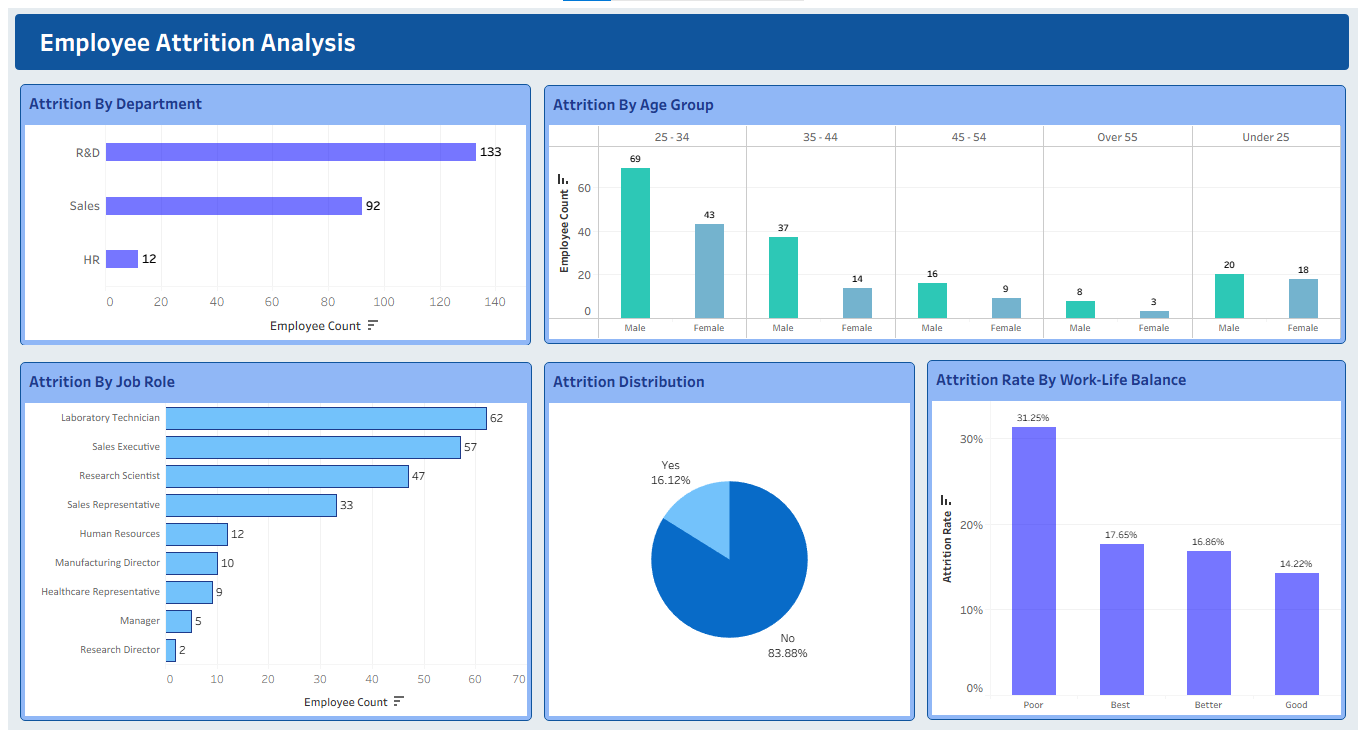

The dashboard page shown, as its layout file describes it:
{"tool":"tableau","page":{"name":"Employee Attrition Analysis","canvas":[1000,1000],"units":"permille","ordinal":0},"visuals":[{"type":"blank","box":[11.3,18.6,976.6,76]},{"type":"text","box":[26.8,28.7,342.9,54.1]},{"type":"worksheet","title":"Attrition By Department","mark":"Automatic","rows":["Department"],"cols":["Employee Count"],"box":[15.6,114.9,372.3,351.4]},{"type":"worksheet","title":"Attrition By Age Group","mark":"Automatic","rows":["Employee Count"],"cols":["CF_age band","Gender"],"box":[399.1,116.5,585.3,348]},{"type":"worksheet","title":"Attrition Rate By Work-Life Balance","mark":"Automatic","rows":["Calculation_0070150597394432"],"cols":["Calculation_0070150615400451"],"box":[679.7,489.9,304.8,484.8]},{"type":"worksheet","title":"Attrition By Job Role","mark":"Automatic","rows":["Job Role"],"cols":["Employee Count"],"box":[15.6,491.6,373.2,483.1]},{"type":"worksheet","title":"Employee Attrition Distribution","mark":"Pie","box":[399.1,491.6,270.1,483.1]}]}

Visuals, with their boxes on the dashboard's canvas, which has no fixed pixel size, in thousandths of its width and height (x1, y1, x2, y2). These are canvas units, not pixel positions in the 1366x738 screenshot, which may show the page scaled, cropped or inside an application window:
blank: {"left": 11, "top": 19, "right": 988, "bottom": 95}
text: {"left": 27, "top": 29, "right": 370, "bottom": 83}
"Attrition By Department" worksheet: {"left": 16, "top": 115, "right": 388, "bottom": 466}
"Attrition By Age Group" worksheet: {"left": 399, "top": 116, "right": 984, "bottom": 464}
"Attrition Rate By Work-Life Balance" worksheet: {"left": 680, "top": 490, "right": 984, "bottom": 975}
"Attrition By Job Role" worksheet: {"left": 16, "top": 492, "right": 389, "bottom": 975}
"Employee Attrition Distribution" worksheet (Pie marks): {"left": 399, "top": 492, "right": 669, "bottom": 975}
